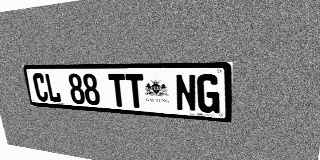8: (82, 73, 101, 105), (67, 73, 86, 104)
C: (32, 73, 49, 102)
G: (197, 74, 220, 114)
L: (44, 73, 62, 103)
N: (175, 74, 197, 112)
T: (125, 74, 145, 108), (108, 74, 128, 107)
